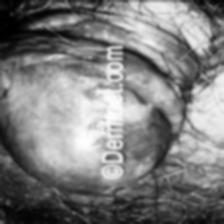Potentially Malignant Skin Tumors: (81, 86, 134, 125)
